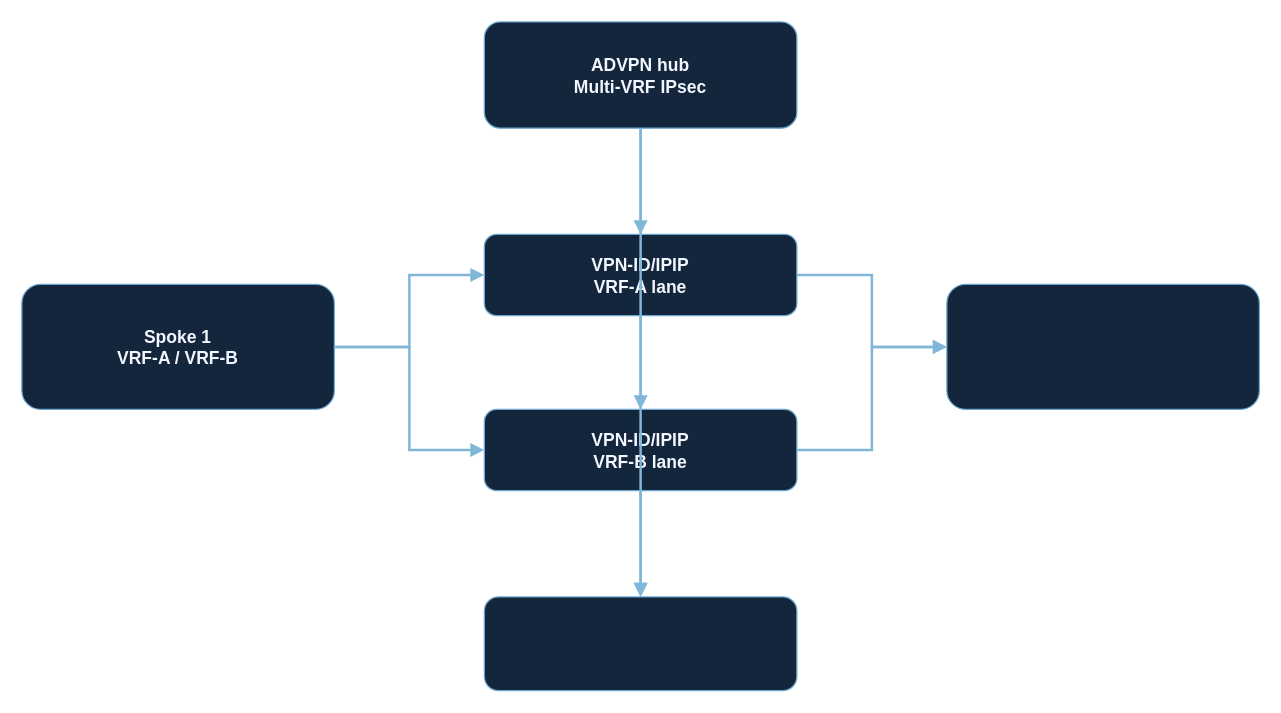
Some shapes in this 1281 by 713 pixel diagram are drawn without their labels. The centre of each missing label's shape, as x and y in pixels:
"BGP + IPv6 loopbacks VRF-aware SLA" belongs at [640,643].
"Spoke 2 VRF-A / VRF-B" belongs at [1102,346].
